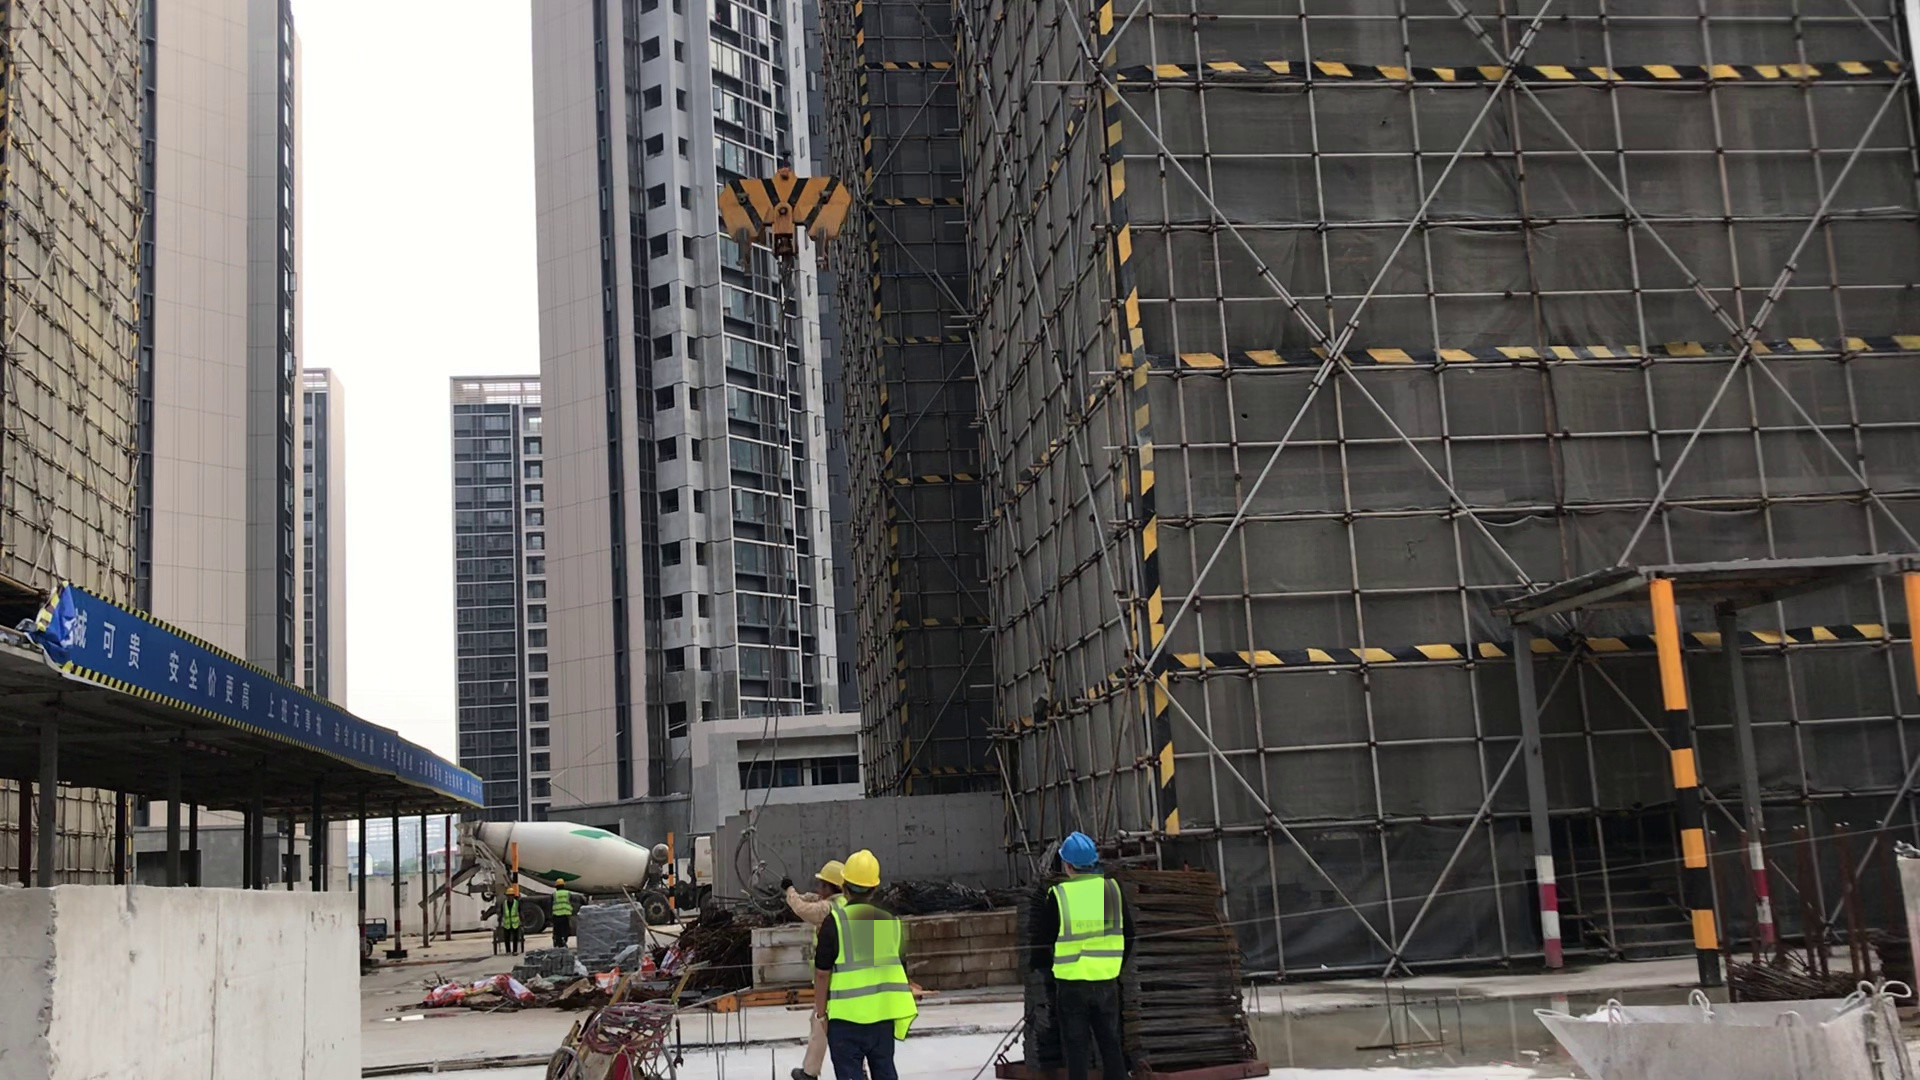handcart: (546, 949, 713, 1080)
helmet: (840, 850, 880, 887), (1058, 831, 1097, 866), (815, 859, 844, 886), (555, 877, 566, 885), (505, 888, 515, 894)
hook: (715, 151, 851, 288)
person: (813, 852, 918, 1080), (1046, 829, 1137, 1080), (776, 860, 846, 1080), (549, 876, 572, 950), (499, 888, 521, 958)
rebar: (1129, 868, 1251, 1072)
slogan: (69, 584, 486, 806)
vest: (827, 903, 915, 1038), (1050, 878, 1124, 980), (503, 899, 520, 930), (553, 890, 571, 916)
